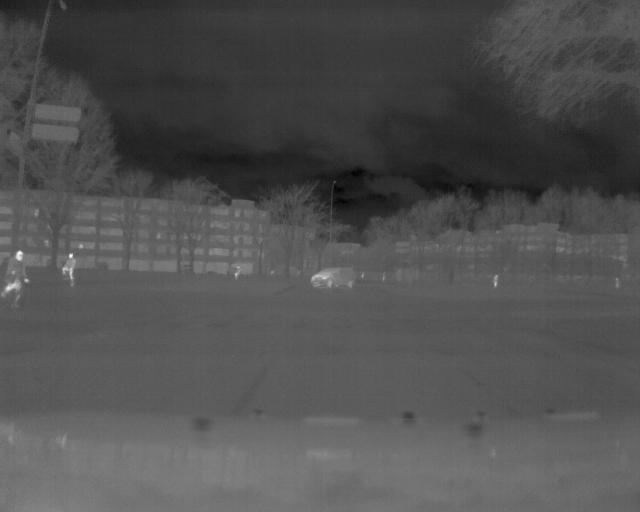car: (312, 265, 355, 291)
person: (5, 246, 28, 315), (61, 250, 77, 288), (491, 274, 501, 289), (232, 265, 241, 281)
